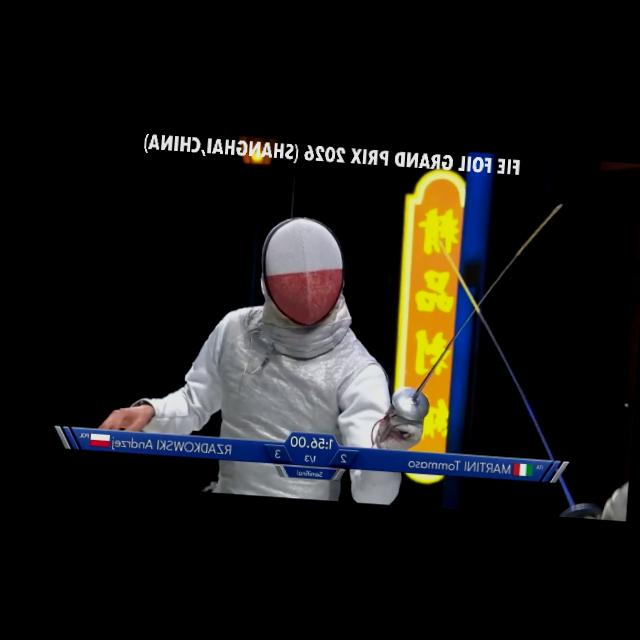blade: (408, 221, 622, 518), (366, 183, 568, 458)
